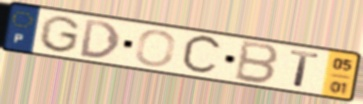B: (231, 39, 282, 87)
C: (178, 34, 225, 77)
D: (78, 17, 122, 60)
G: (36, 14, 83, 55)
O: (133, 29, 178, 68)
T: (289, 48, 322, 90)
